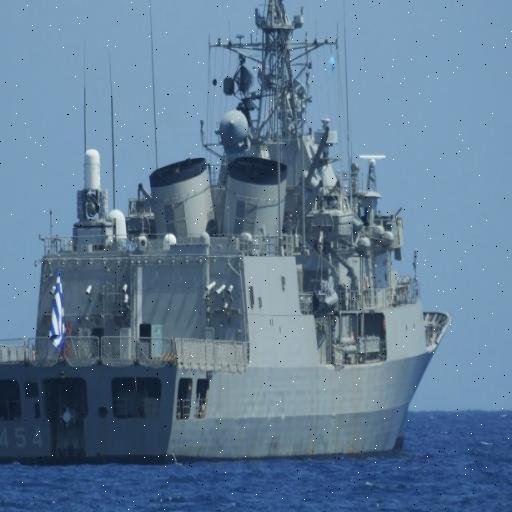Fragata: (1, 1, 456, 476)
